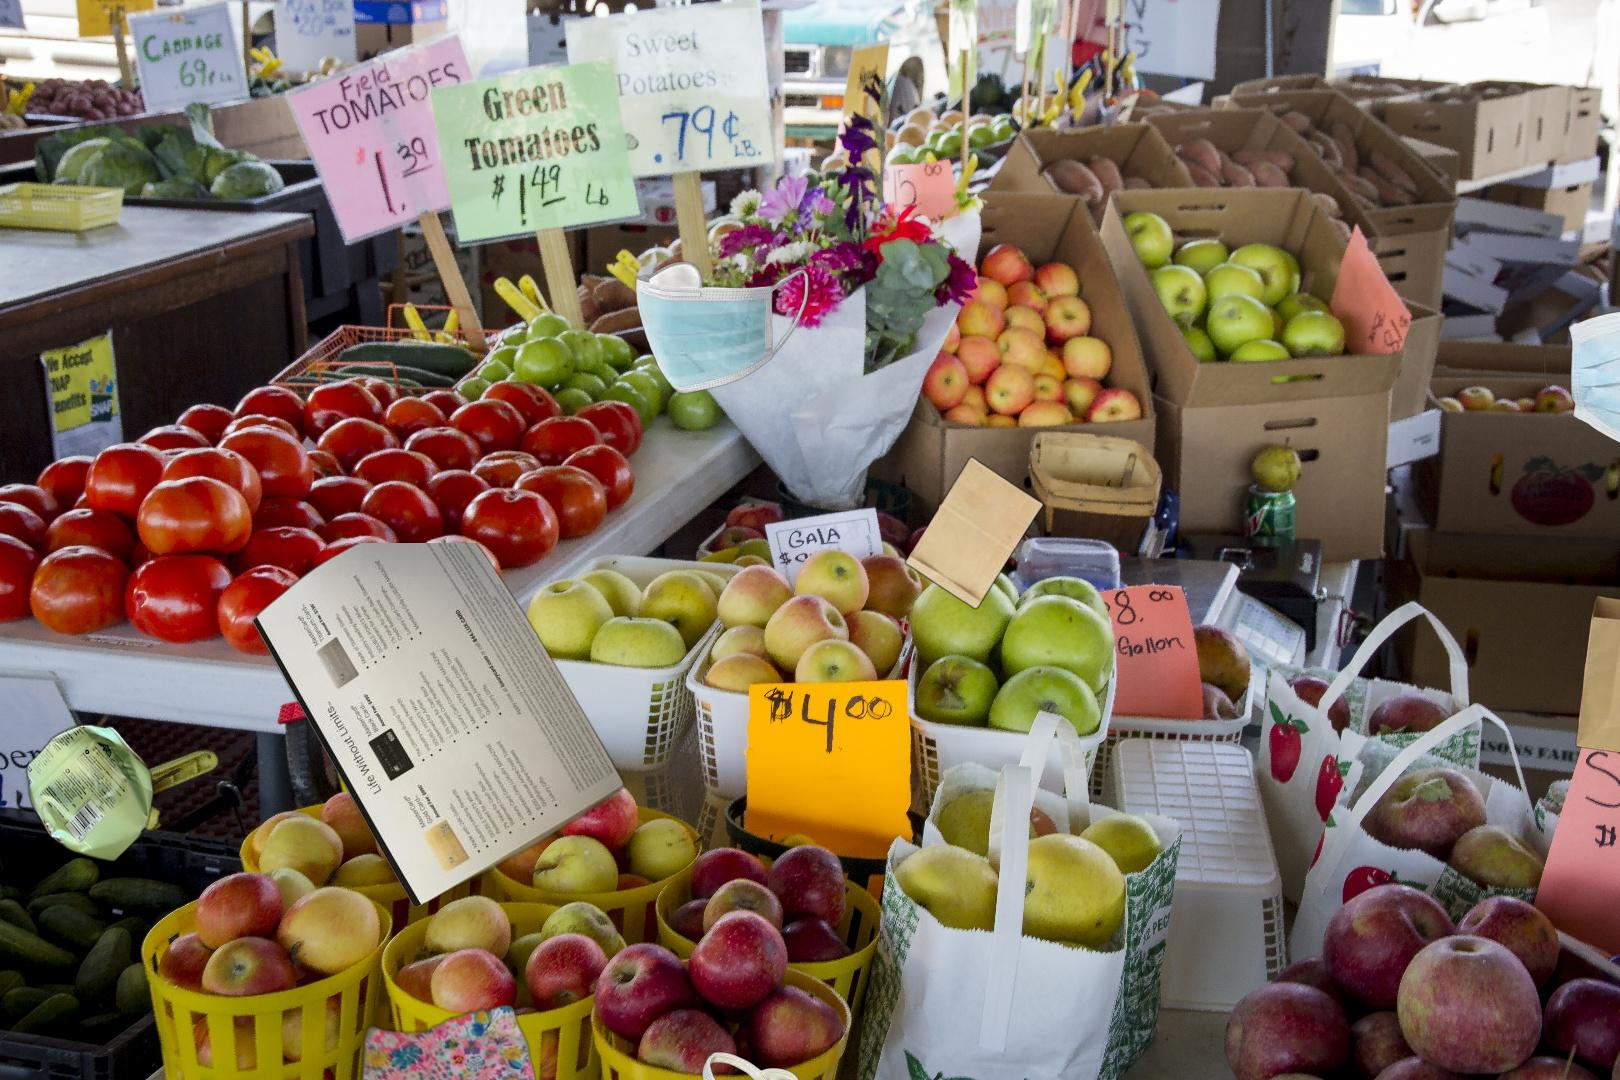clothes: (347, 1000, 614, 1080)
metal-cans: (23, 718, 158, 868)
paper: (248, 542, 629, 909)
paper-bag: (902, 433, 1046, 610), (1573, 592, 1620, 758)
shoes: (689, 1049, 915, 1080)
trash: (632, 259, 812, 397), (1540, 299, 1620, 457)
